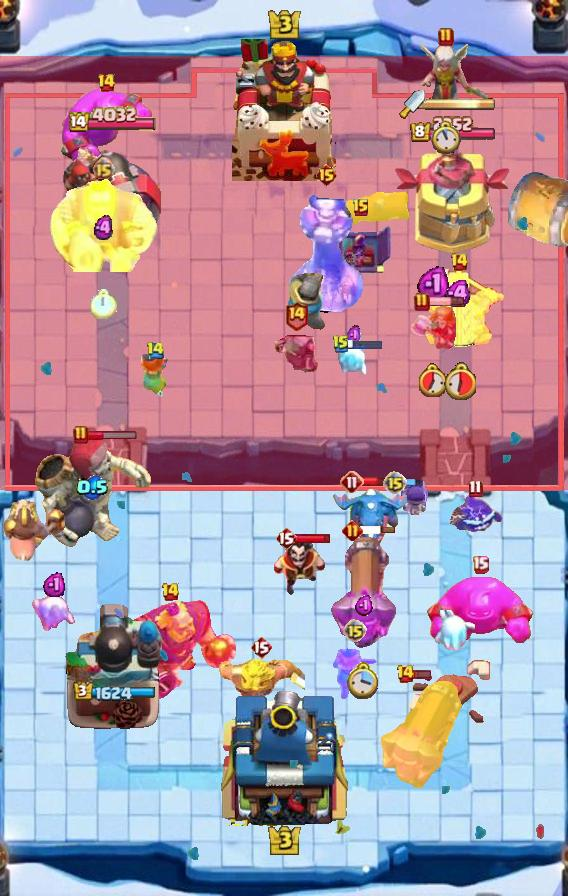bar: (394, 142, 512, 256)
bat: (433, 610, 475, 650), (333, 341, 375, 379)
battle-ram: (273, 331, 319, 377)
clone: (58, 86, 154, 172), (424, 574, 536, 646)
dirt: (505, 169, 567, 251)
electro-dragon: (287, 191, 365, 319)
electro-giant: (31, 437, 153, 549)
electro-spirit: (417, 264, 449, 302), (75, 476, 109, 501), (446, 280, 474, 308), (43, 571, 65, 597), (95, 215, 114, 241), (354, 595, 374, 616), (347, 325, 361, 347)
elixir: (347, 661, 381, 700), (443, 362, 477, 400), (431, 121, 461, 155), (420, 363, 449, 397), (91, 289, 118, 319)
emote: (86, 430, 138, 441), (362, 475, 398, 488), (427, 297, 464, 308), (296, 532, 333, 543), (347, 339, 383, 350), (360, 525, 396, 535), (404, 476, 423, 487), (413, 668, 432, 679)
firecracker: (288, 273, 327, 331)
freeze: (0, 495, 68, 567)
furnace: (377, 676, 463, 800), (330, 533, 398, 653)
giant-skeleton: (48, 178, 158, 272)
goblin: (398, 481, 429, 521)
goblin-hut: (217, 656, 305, 702)
graveyard: (329, 483, 407, 547)
hog-rider: (331, 647, 379, 701), (409, 305, 457, 351), (136, 348, 174, 400)
ice-spirit-evolution-symbol: (329, 222, 393, 276)
king-tower: (214, 684, 354, 826), (232, 39, 336, 181)
king-tower-bar: (425, 97, 495, 111)
lava-pup: (410, 268, 508, 350)
lightning: (102, 600, 239, 700)
lumberjack: (271, 538, 327, 598)
minion: (308, 187, 414, 233)
mirror: (29, 593, 79, 631)
poison: (402, 36, 490, 114)
selected: (69, 106, 159, 135), (409, 116, 497, 144), (72, 681, 155, 702)
spear-goblin: (447, 494, 503, 534)
text: (284, 301, 309, 332), (340, 470, 364, 494), (383, 471, 407, 495), (343, 619, 367, 643), (93, 156, 116, 180), (315, 163, 338, 187), (275, 526, 297, 550), (250, 635, 272, 659), (341, 519, 362, 541), (97, 73, 116, 93), (450, 252, 469, 272), (161, 582, 180, 602), (397, 664, 416, 684), (352, 198, 370, 218), (332, 334, 350, 354), (146, 341, 166, 359), (471, 554, 488, 573), (438, 27, 454, 47), (414, 292, 430, 312), (73, 425, 89, 445), (469, 479, 483, 497)
tower-bar: (64, 601, 164, 731), (63, 136, 165, 256)
